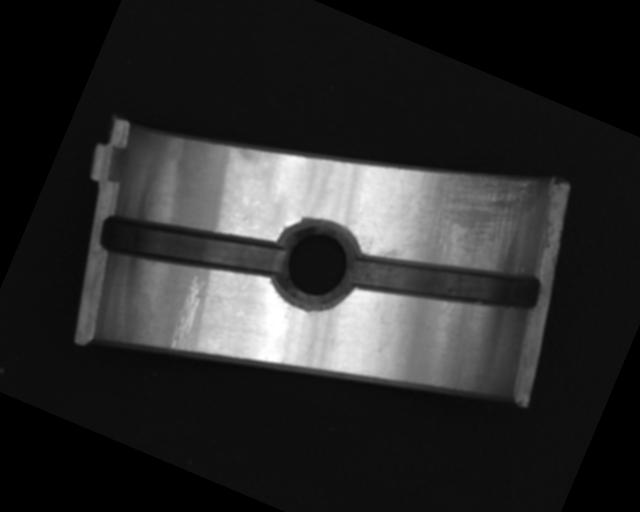gap: (344, 212, 544, 354), (93, 181, 291, 317)
hole: (256, 202, 375, 326)
nick: (163, 272, 211, 356)
scratch: (377, 134, 547, 305)
